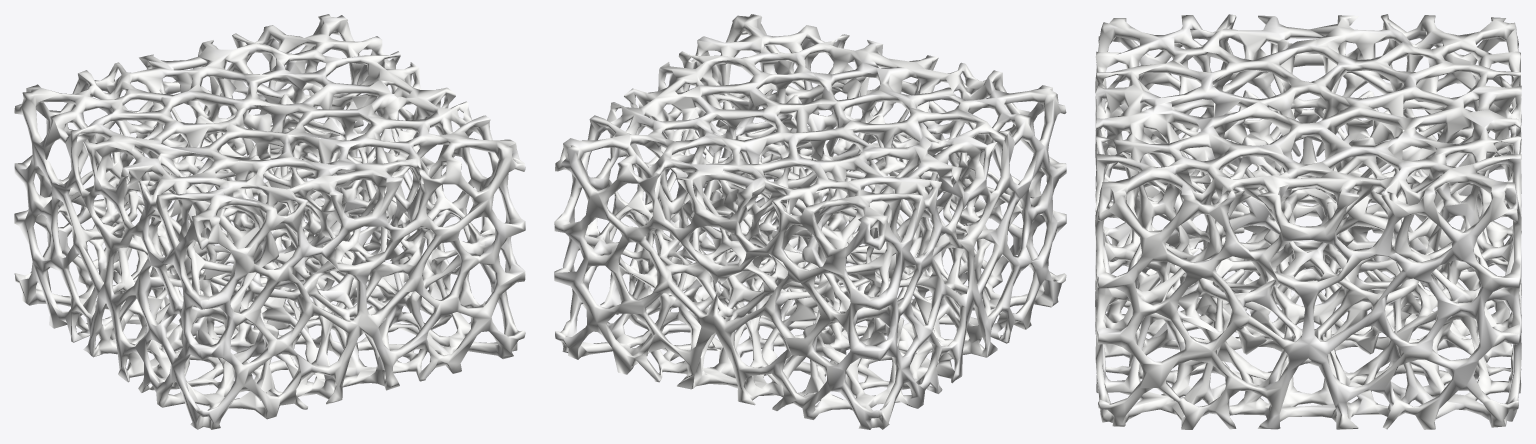
The model's file is foam.glb.
3 renders of one model, left to right at view 1: azimuth 30°, elevation 25°; view 2: azimuth 150°, elevation 25°; view 3: azimuth 270°, elevation 25°, orthographic. The views are drawn at different scales.
Parts seen in each view (by area): view 1: Mesh_0; view 2: Mesh_0; view 3: Mesh_0.
Part boxes in pixels (left/top/right/bottom): Mesh_0: left=14, top=14, right=525, bottom=429; Mesh_0: left=554, top=14, right=1066, bottom=429; Mesh_0: left=1095, top=14, right=1521, bottom=429.
Size of the model in its own units: 1.91 by 1.17 by 1.91.
1 material, 1 textured.
